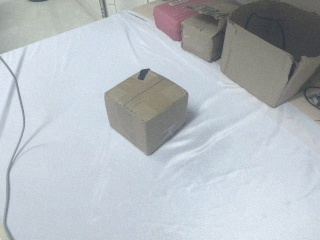box: (219, 1, 320, 109), (105, 67, 189, 155), (181, 14, 226, 63), (150, 1, 198, 42)
